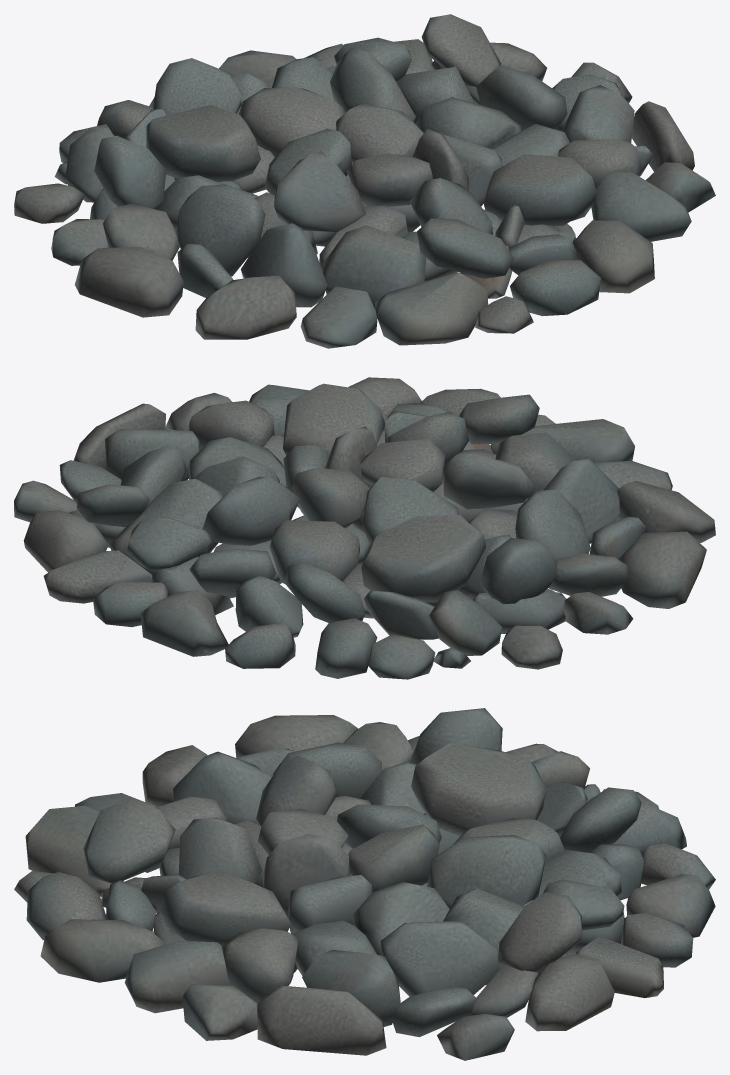
File: river-stones.glb
3 renders of one model, top to bottom at view 1: azimuth 30°, elevation 25°; view 2: azimuth 150°, elevation 25°; view 3: azimuth 270°, elevation 25°, orthographic. The views are drawn at different scales.
Bounding box in the file's own units: 0.9575 × 0.1386 × 0.8916.
Materials: 1 (1 with a texture image).
